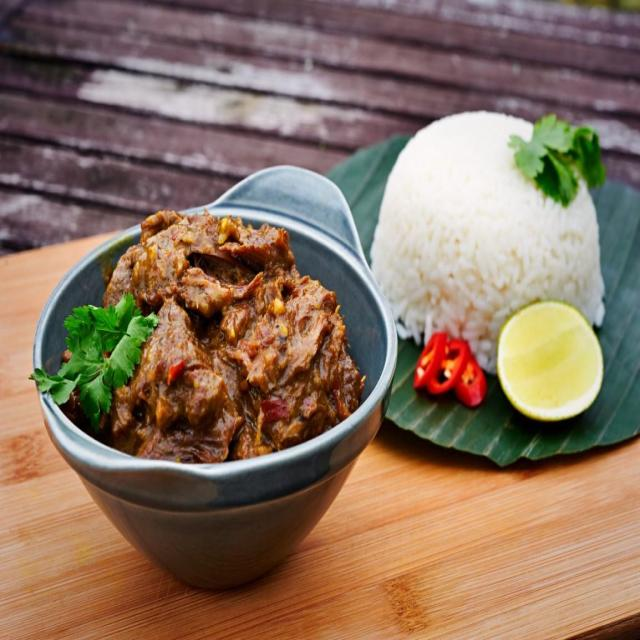Rendang: (76, 205, 364, 492)
